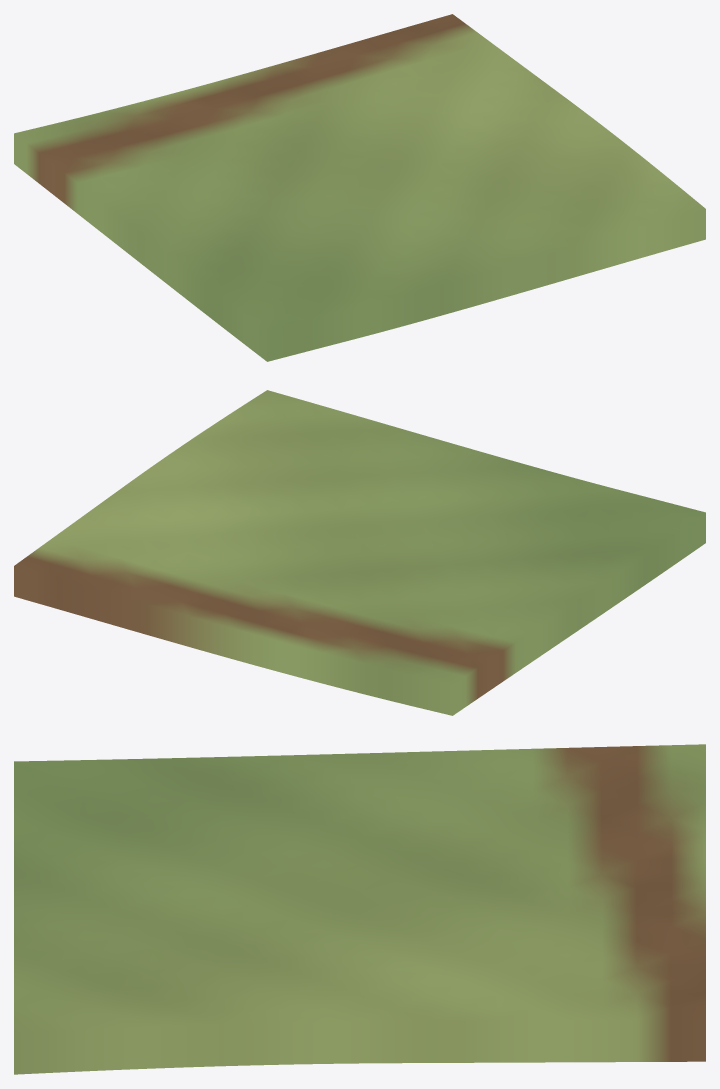
3 views of the same model, one above another, from view 1: azimuth 30°, elevation 25°; view 2: azimuth 150°, elevation 25°; view 3: azimuth 270°, elevation 25° (orthographic). The views are drawn at different scales.
Visible parts, largest first — view 1: terrain; view 2: terrain; view 3: terrain.
Part boxes in pixels (<box>): terrain: <box>14,14,705,361</box>; terrain: <box>14,390,705,715</box>; terrain: <box>14,744,705,1074</box>.
Size of the model in its own units: 30 by 3.62 by 30.
